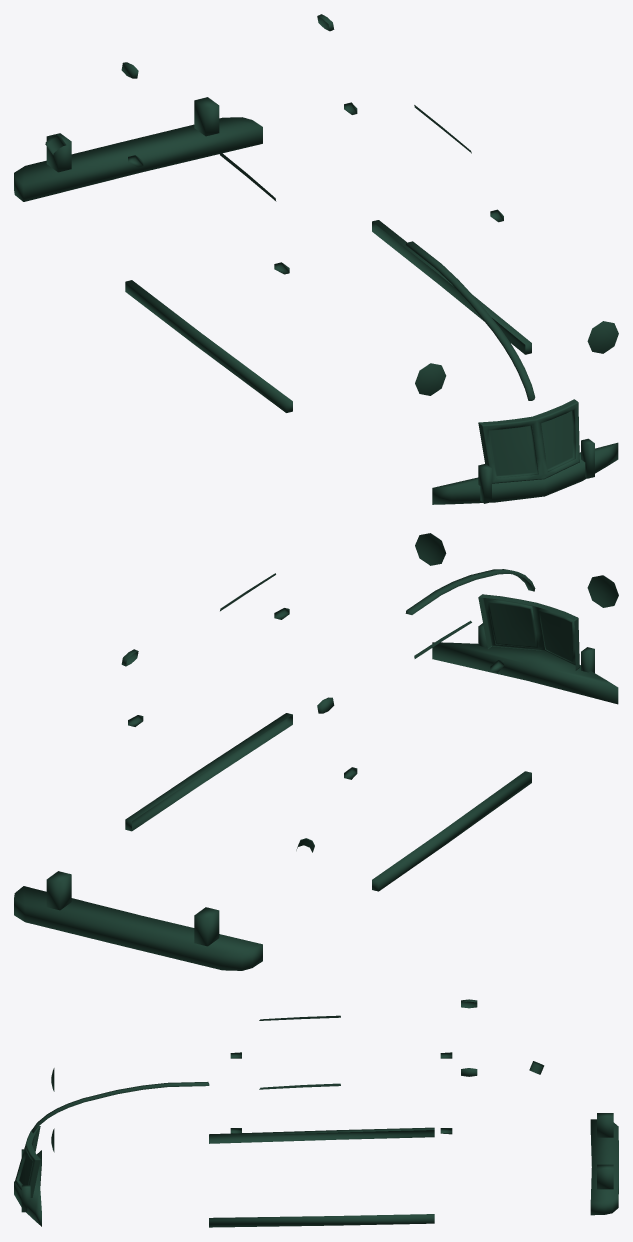
Rendered from MetalParts.obj.
The picture shows the model from 3 angles, top to bottom: view 1: azimuth 30°, elevation 25°; view 2: azimuth 150°, elevation 25°; view 3: azimuth 270°, elevation 25°; orthographic projection. The views are drawn at different scales.
Visible parts, largest first — view 1: Plane.001; view 2: Plane.001; view 3: Plane.001.
Boxes of the visible parts, <box> form: Plane.001: <box>14,14,618,504</box>; Plane.001: <box>14,533,618,970</box>; Plane.001: <box>14,999,618,1227</box>.
Bounding box in the file's own units: 1.39 × 1.14 × 3.89.
